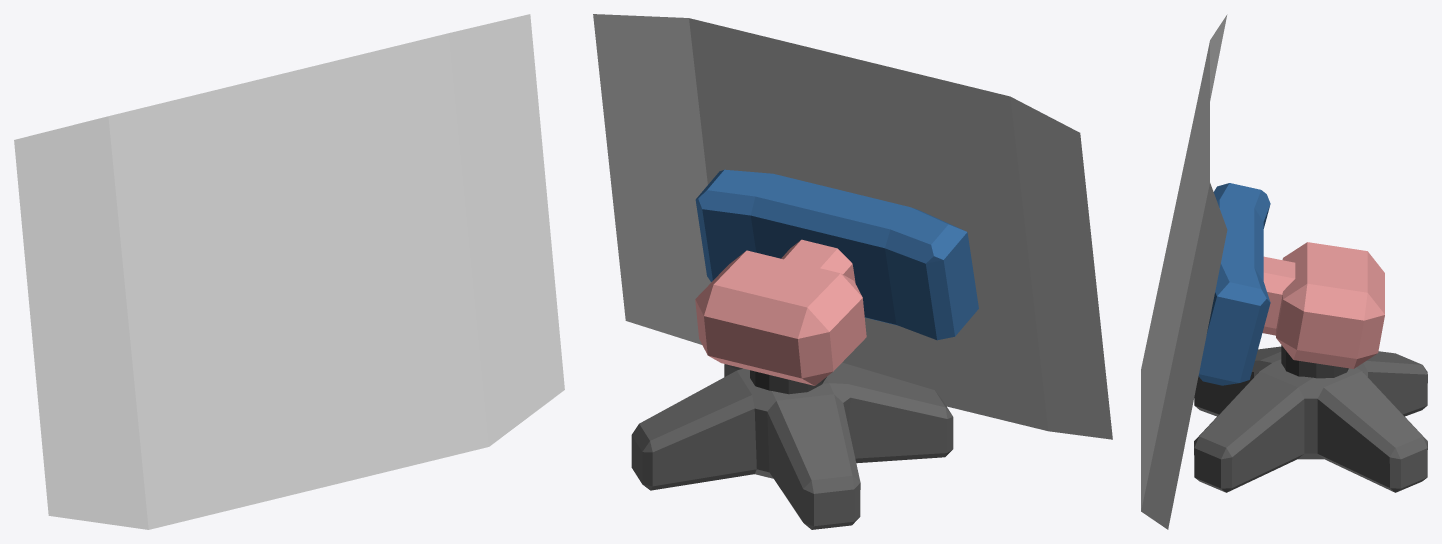
File: shield.fbx
The picture shows the model from 3 angles, left to right: view 1: azimuth 30°, elevation 25°; view 2: azimuth 150°, elevation 25°; view 3: azimuth 270°, elevation 25°; orthographic projection. The views are drawn at different scales.
Parts seen in each view (by area): view 1: shield; view 2: shield, turret, base; view 3: base, turret, shield.
Part boxes in pixels (bbox=[...]): shield: bbox=[14, 14, 564, 529]; shield: bbox=[593, 14, 1112, 439]; turret: bbox=[695, 169, 978, 394]; base: bbox=[631, 362, 953, 529]; base: bbox=[1194, 346, 1427, 492]; turret: bbox=[1198, 183, 1384, 385]; shield: bbox=[1141, 14, 1227, 529].
Size of the model in its own units: 128 by 92.53 by 72.03.
